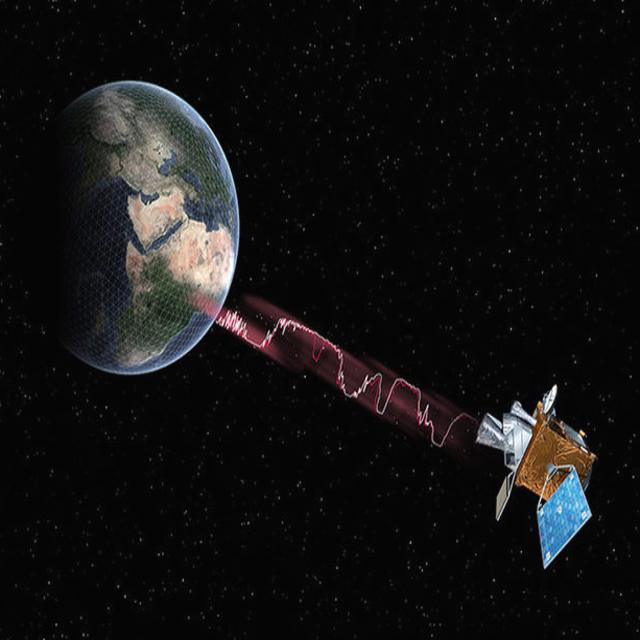satellite: (472, 384, 599, 570)
